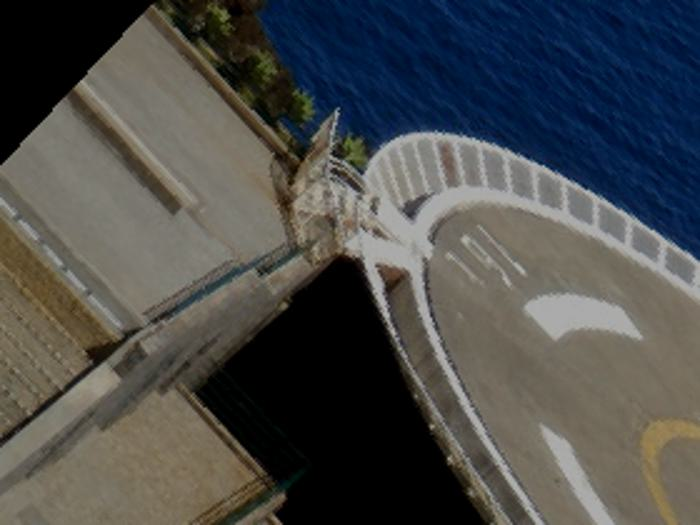Apron: (617, 398, 700, 525)
